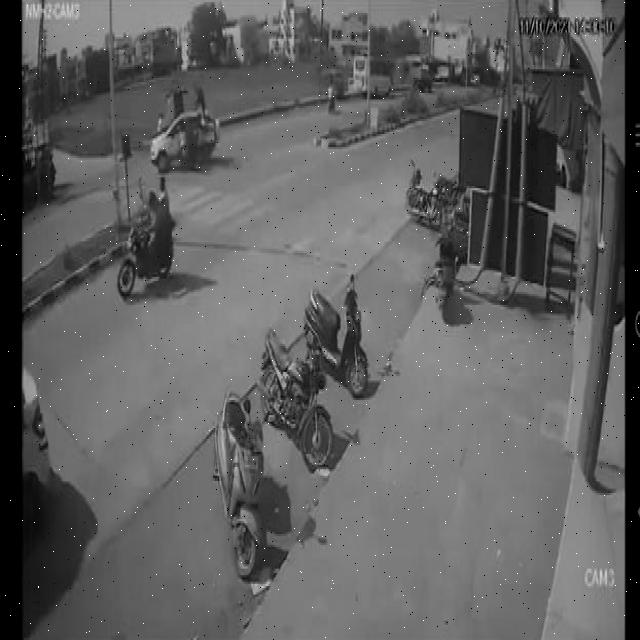accident: (142, 78, 222, 177)
